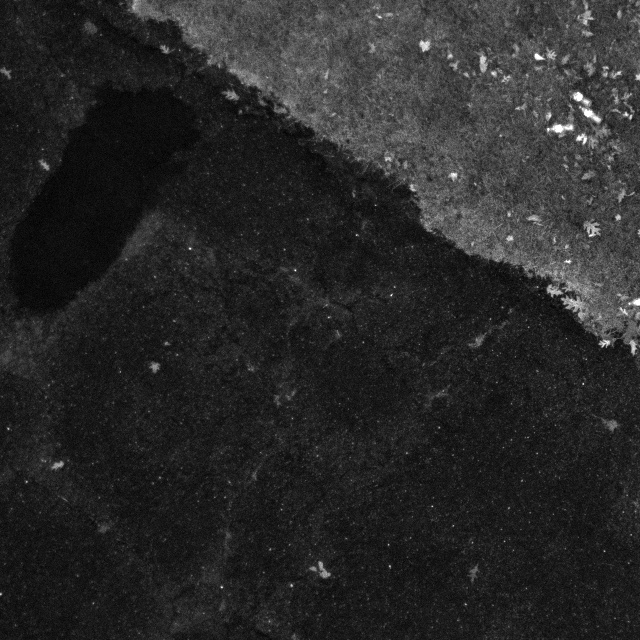bottle: (542, 119, 579, 140), (576, 100, 603, 127), (570, 85, 592, 112)
